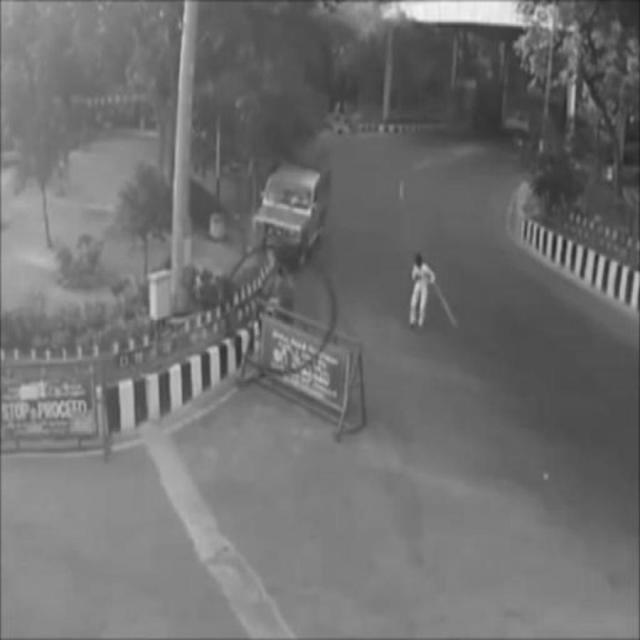accident: (247, 159, 330, 270)
person: (266, 259, 298, 342), (407, 254, 434, 328)
